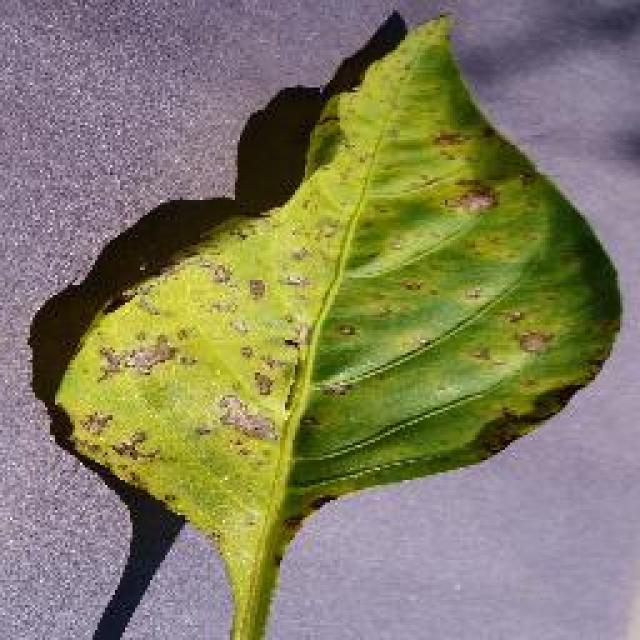Chilli_Bacterial_Spot: (37, 8, 625, 638), (50, 210, 320, 540), (92, 330, 180, 385), (210, 390, 280, 445), (438, 178, 500, 220), (108, 425, 158, 467), (93, 340, 125, 385), (513, 325, 555, 357), (75, 408, 115, 440), (428, 125, 468, 153), (248, 365, 278, 400), (203, 258, 235, 290), (242, 273, 270, 305), (330, 318, 360, 342)
